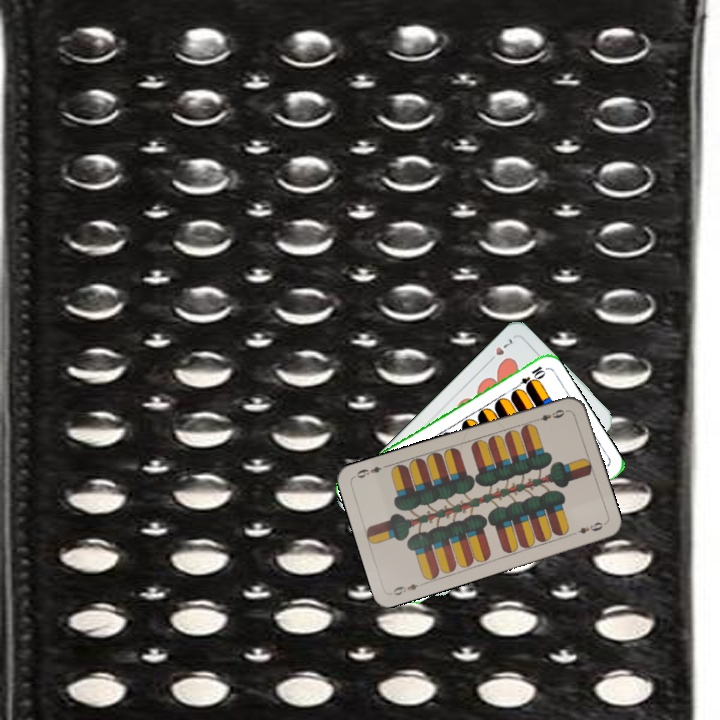E10: (510, 362, 547, 392)
E9: (389, 579, 427, 598), (531, 405, 567, 424)
H7: (484, 334, 517, 366)
